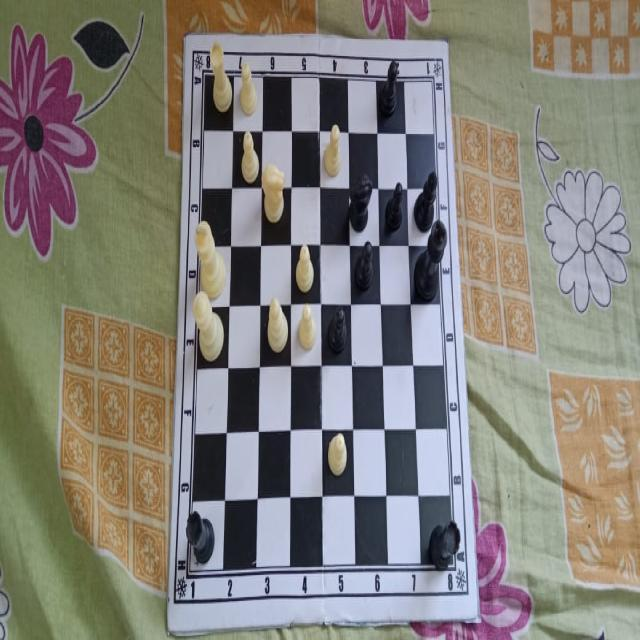corners: (440, 30, 453, 56), (161, 615, 174, 640), (177, 30, 192, 51), (472, 608, 484, 630)
